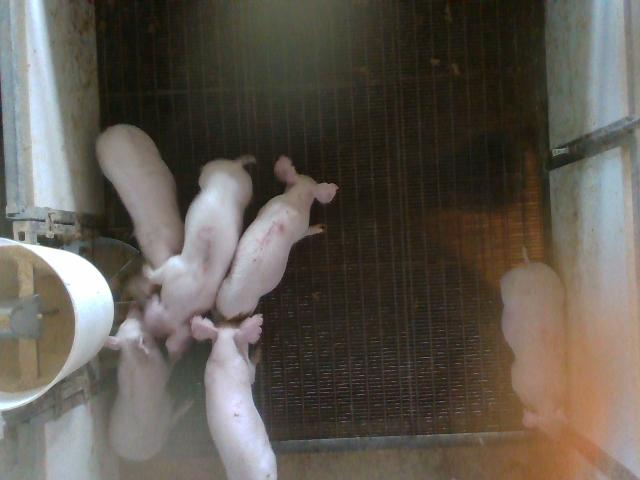pig-3: (145, 156, 255, 356)
pig-4: (501, 255, 565, 434)
pig-5: (218, 156, 338, 319)
